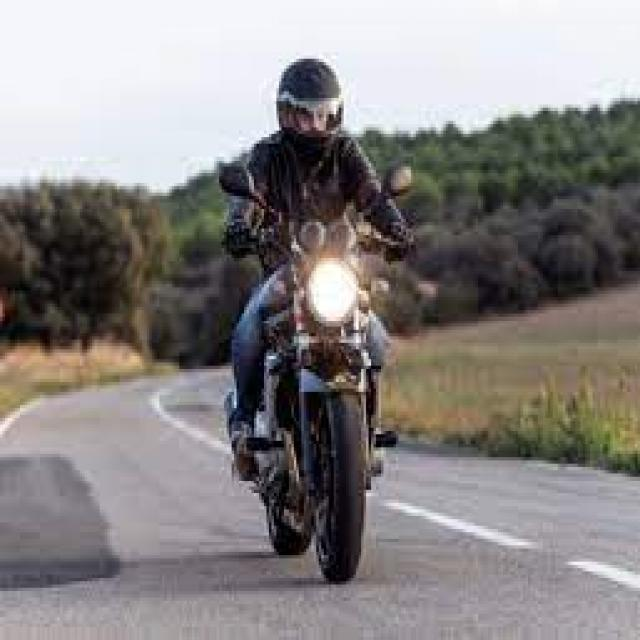With Helmet: (218, 20, 424, 592)
